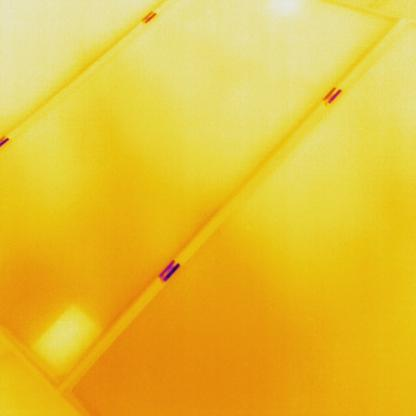hotspot: (31, 303, 106, 383)
